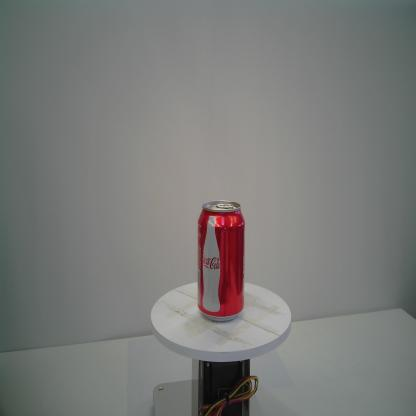Drink: (196, 199, 246, 325)
